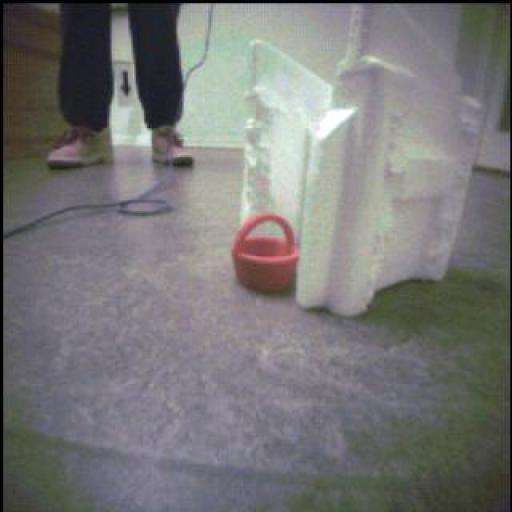Arrow: (121, 71, 132, 97)
Bucket: (228, 211, 304, 290)
